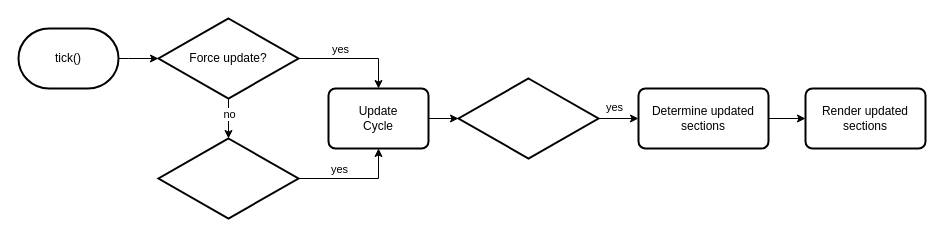
The diagram is 943 pixels wide and 236 high, and some of its shapes have lost their labels. Each missing label, with the centre of its shape:
"Did something change?" belongs at [528,118].
"Is update due?" belongs at [228,178].
